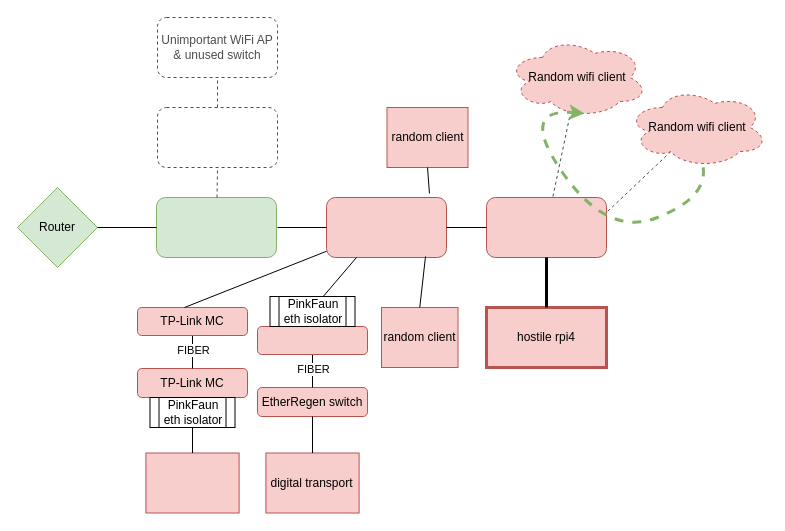
The diagram is 785 pixels wide and 531 high, and some of its shapes have lost their labels. Here are the shapes that lost their labels. From the top down, the centre of each, then its label:
point (217, 137): Unimportant switch
point (216, 227): Main switch
point (386, 227): Upstream switch
point (546, 227): WiFi AP & switch
point (312, 340): UpTone OM Deluxe
point (192, 482): P10
